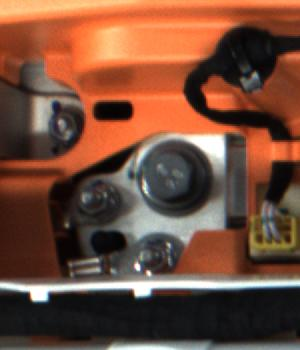nut_b: (134, 134, 214, 216)
